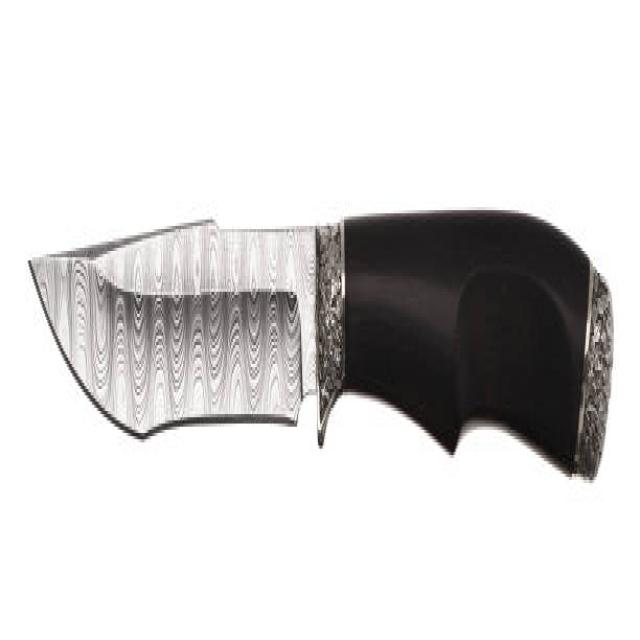knife: (26, 187, 620, 554)
